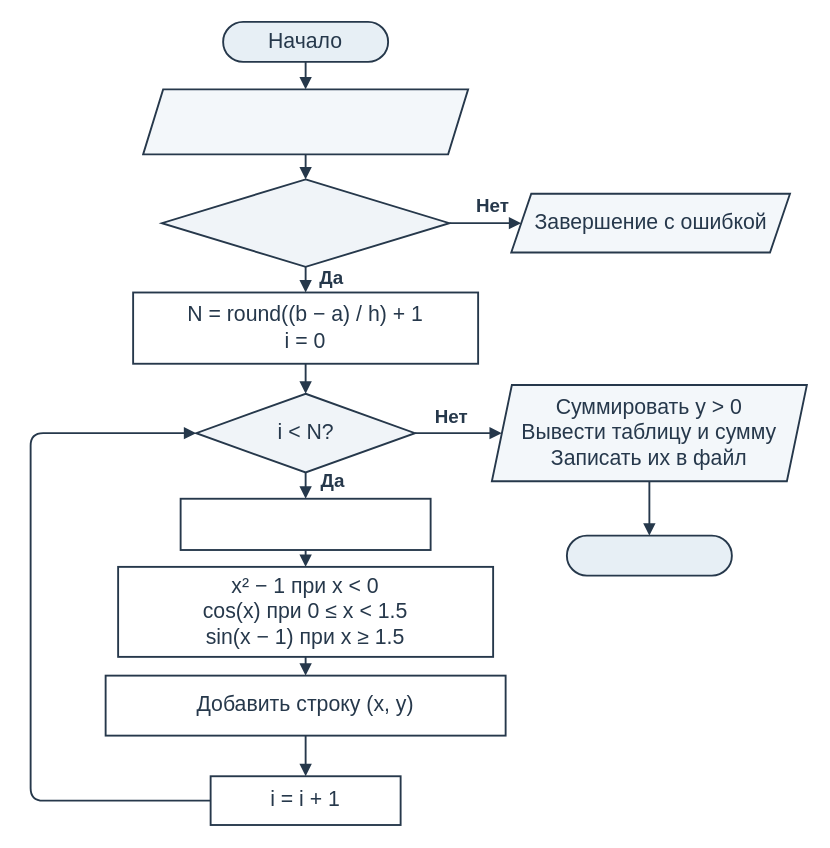
The diagram is 830 pixels wide and 848 high, and some of its shapes have lost their labels. The centre of each missing label's shape, as x and y in pixels:
"h > 0 и b ≥ a?" belongs at [305,222].
"x = a + i · h" belongs at [305,523].
"Ввод a, b, h Повтор при нечисловом вводе" belongs at [305,121].
"Конец" belongs at [648,555].
